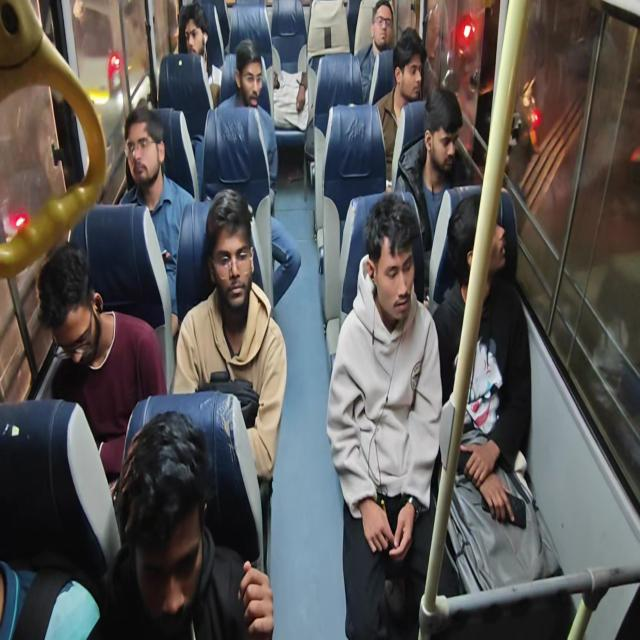person: (100, 397, 218, 640), (23, 248, 116, 409), (186, 189, 284, 331), (0, 484, 81, 639), (358, 180, 432, 342), (96, 109, 174, 211), (448, 211, 514, 310), (228, 44, 279, 134), (344, 0, 401, 49), (387, 30, 422, 108), (434, 102, 468, 167), (180, 0, 210, 59)
